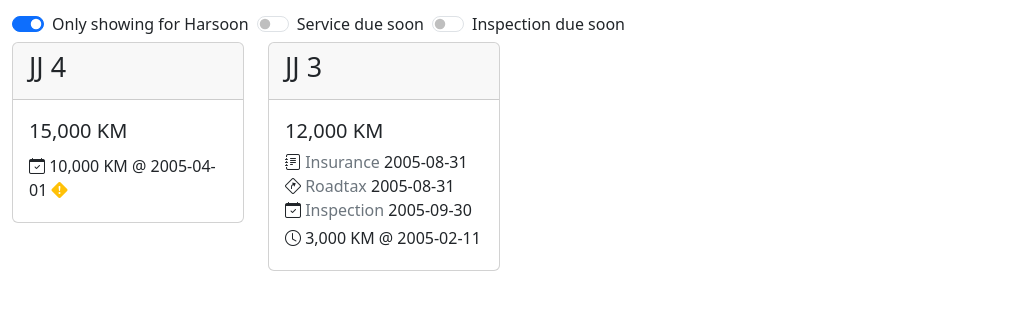
Scenario: render many vehicles
This screenshot has width=1024, height=320.
Expected: the number of buttons is 2, [12,42,244,223]; [268,42,500,271]
Expected: the text "10,000 KM @ 2005-04-01" is shown once, [29,154,227,202]
to show all vehicles
Click the text "Only showing for Harsoon" at (150, 24), box [52,12,249,36]
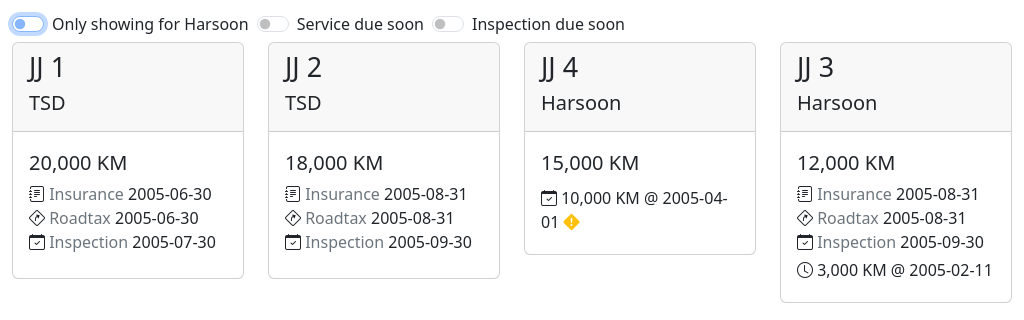
Result: the number of headings "TSD" is 2 at [29,89,66,116]; [285,89,322,116]
